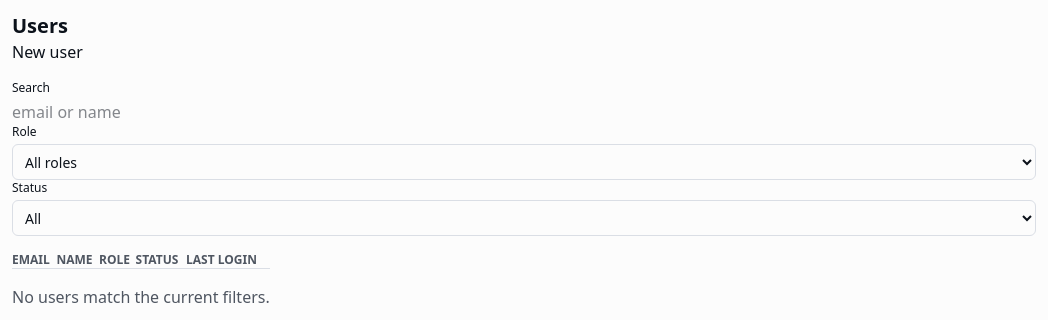
Test: <UsersListPage /> › debounces search input and re-queries with search param
This screenshot has width=1048, height=320.
In the field labelled "Search": [524, 112] box [12, 100, 1036, 124], type "bob"
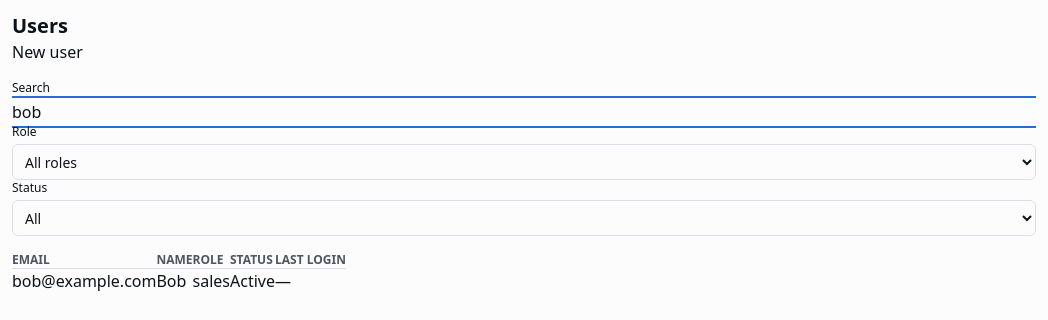
Now the link "bob@example.com" is shown, box [12, 270, 156, 292]
